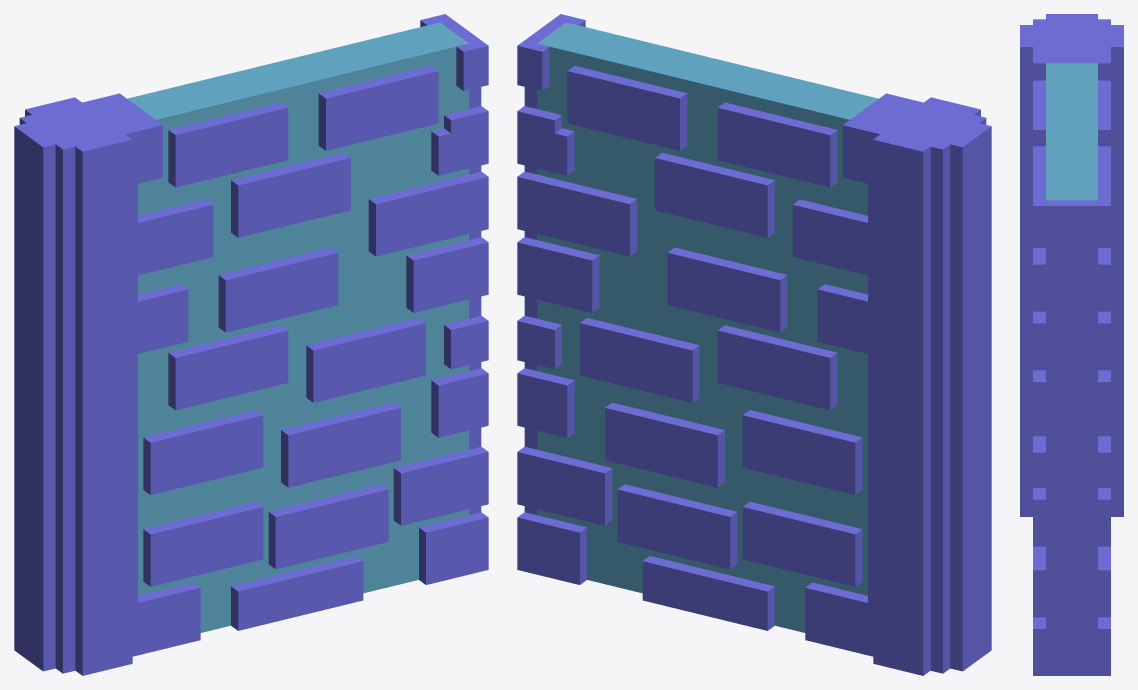
Rendered from door_norm.obj.
3 views of the same model, side by side, from view 1: azimuth 30°, elevation 25°; view 2: azimuth 150°, elevation 25°; view 3: azimuth 270°, elevation 25° (orthographic). The views are drawn at different scales.
Size of the model in its own units: 3.5 by 4 by 0.8.
1 material, 1 textured.
